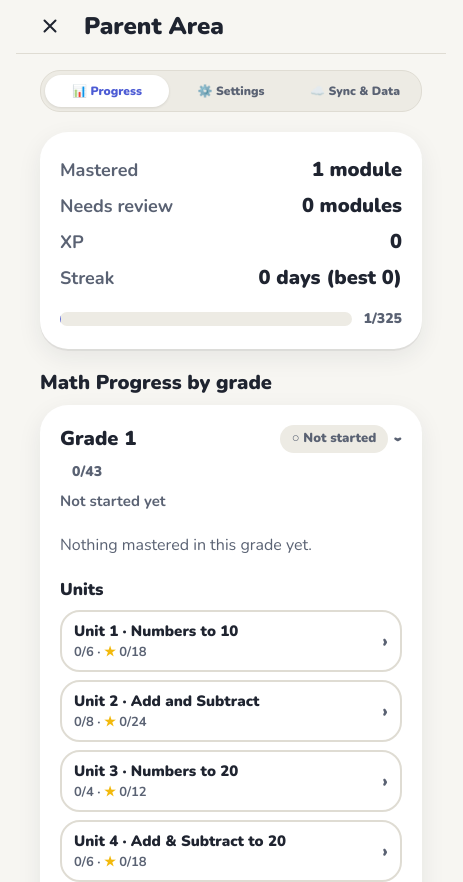
Test: Integrasi Parent Area & Rewards untuk Track Read › ParentScreen menampilkan Math Progress dan Reading Progress
Expected: the heading "Math Progress by grade" is shown, [40,369,272,396]
# Navigasi ke Tab Settings
Click the button "⚙️ Settings": click(231, 91) [169,75,293,107]
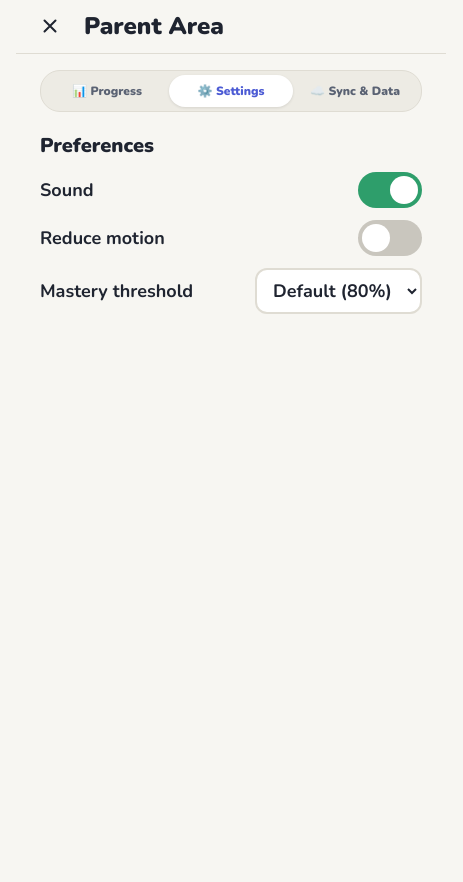
Now the heading "Preferences" is shown, box [40,132,154,159]
Now the text "Mastery threshold" is shown, box [40,278,193,304]
# Navigasi ke Tab Sync & Data
Click the button "☁️ Sync & Data": click(355, 91) [293,75,417,107]
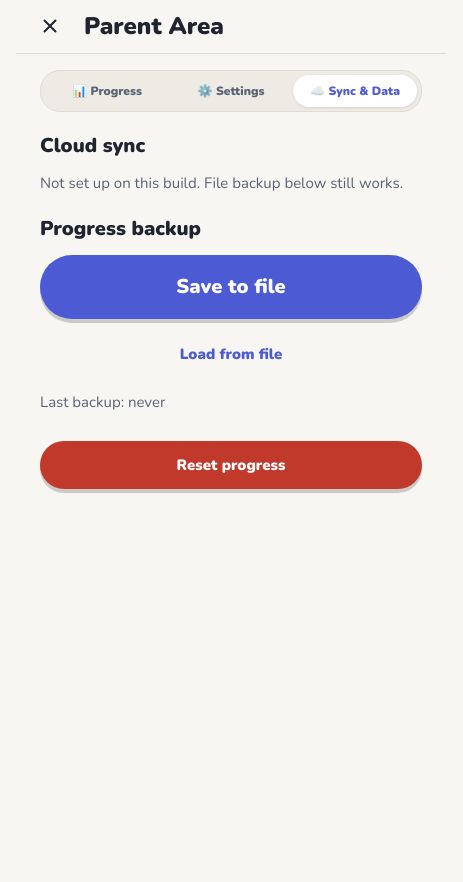
Now the heading "Progress backup" is shown, box [40,214,201,242]
Now the button "Reset progress" is shown, box [40,441,422,489]
